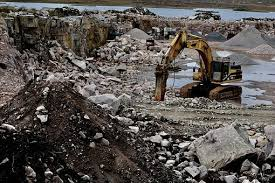excavator: (154, 31, 243, 102)
